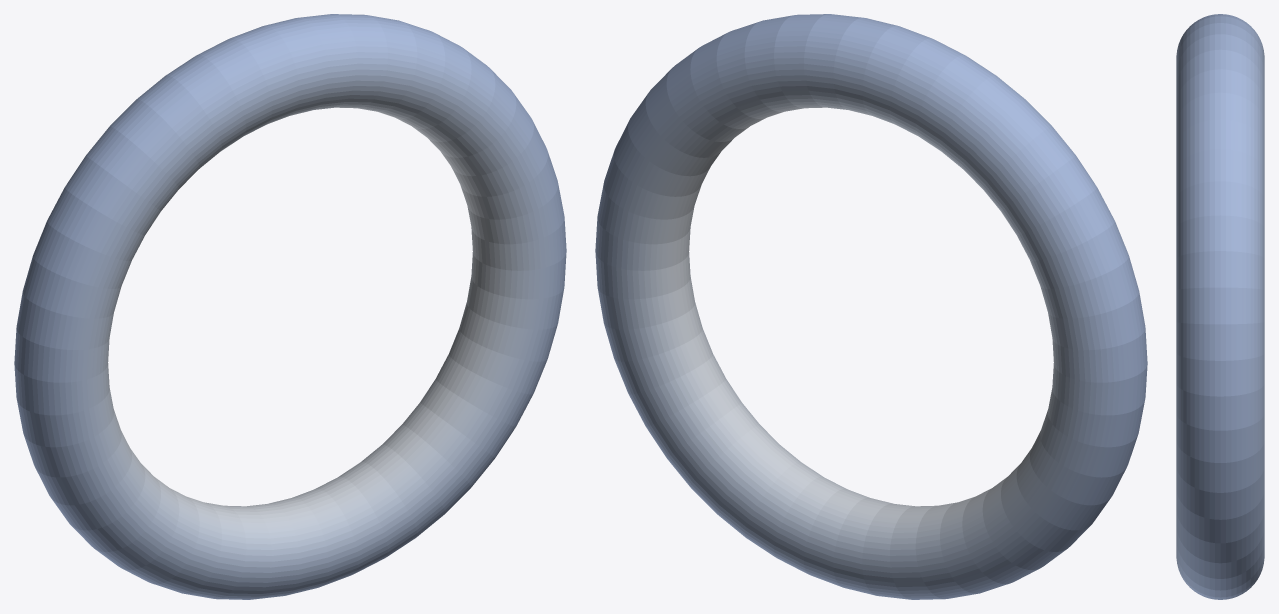
3 renders of one model, left to right at view 1: azimuth 30°, elevation 25°; view 2: azimuth 150°, elevation 25°; view 3: azimuth 270°, elevation 25°, orthographic. The views are drawn at different scales.
Parts seen in each view (by area): view 1: world; view 2: world; view 3: world.
Part boxes in pixels (box(x1,y1,x2,y2)): world: box(14, 14, 566, 599); world: box(595, 14, 1147, 599); world: box(1176, 14, 1264, 599).
Size of the model in its own units: 27.47 by 27.41 by 4.13.
